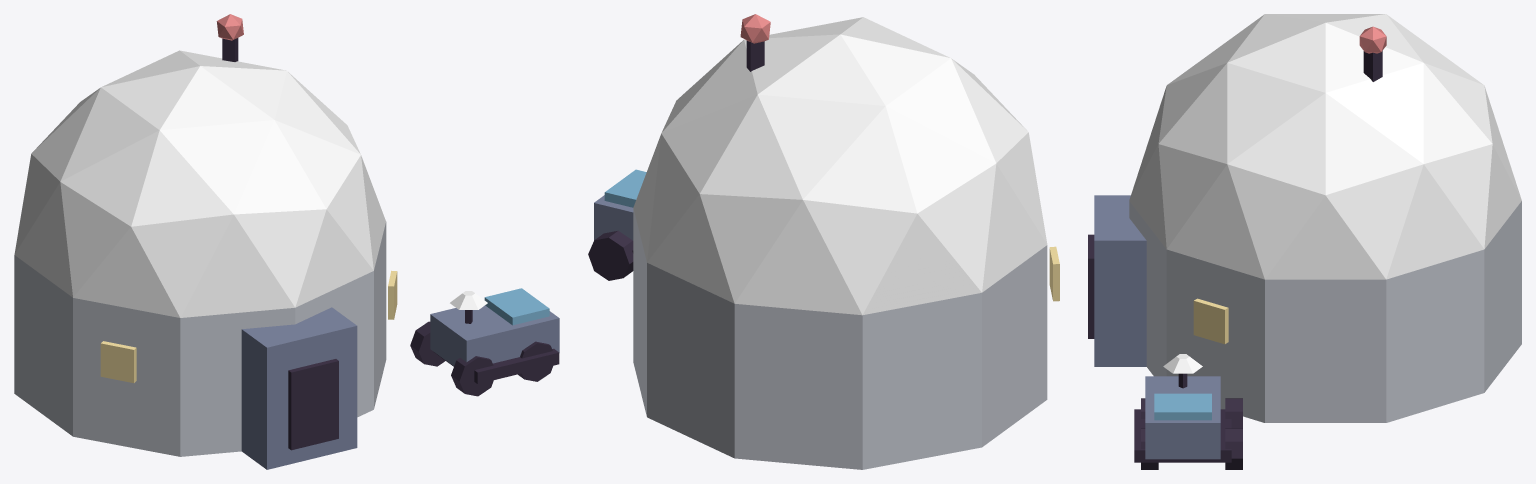
File: moon-g1.glb
3 views of the same model, side by side, from view 1: azimuth 30°, elevation 25°; view 2: azimuth 150°, elevation 25°; view 3: azimuth 270°, elevation 25° (orthographic). The views are drawn at different scales.
Parts seen in each view (by area): view 1: moon-g1; view 2: moon-g1; view 3: moon-g1.
Boxes of the visible parts, left/top/right/bottom form: moon-g1: left=14, top=14, right=559, bottom=469; moon-g1: left=588, top=14, right=1059, bottom=469; moon-g1: left=1088, top=14, right=1521, bottom=469.
Size of the model in its own units: 1.61 by 1.2 by 1.37.
